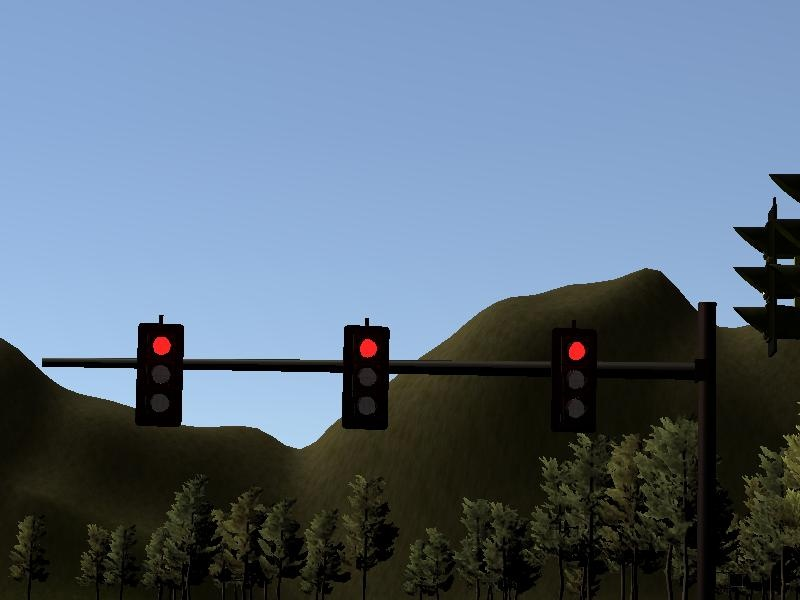traffic_light_red: (104, 313, 646, 431)
